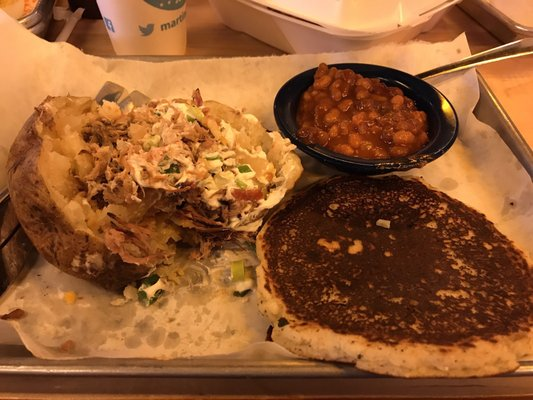pizza: (94, 0, 189, 56)
salad: (413, 37, 533, 85)
sushi: (274, 62, 459, 176)
